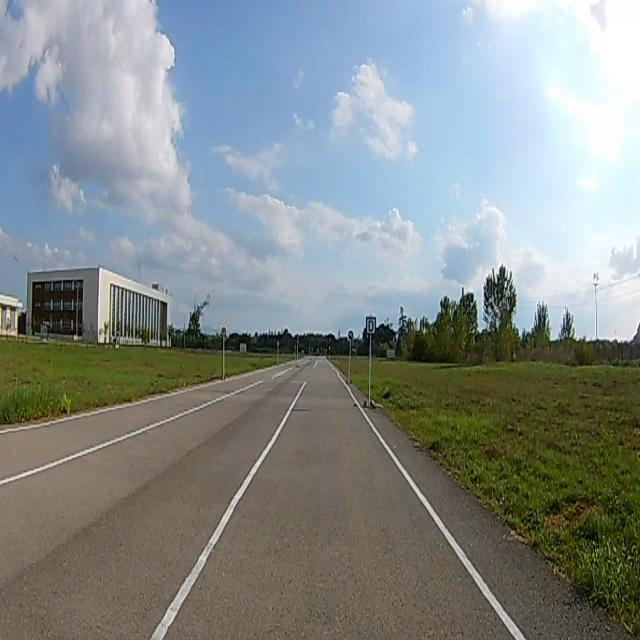durak: (366, 318, 376, 334)
